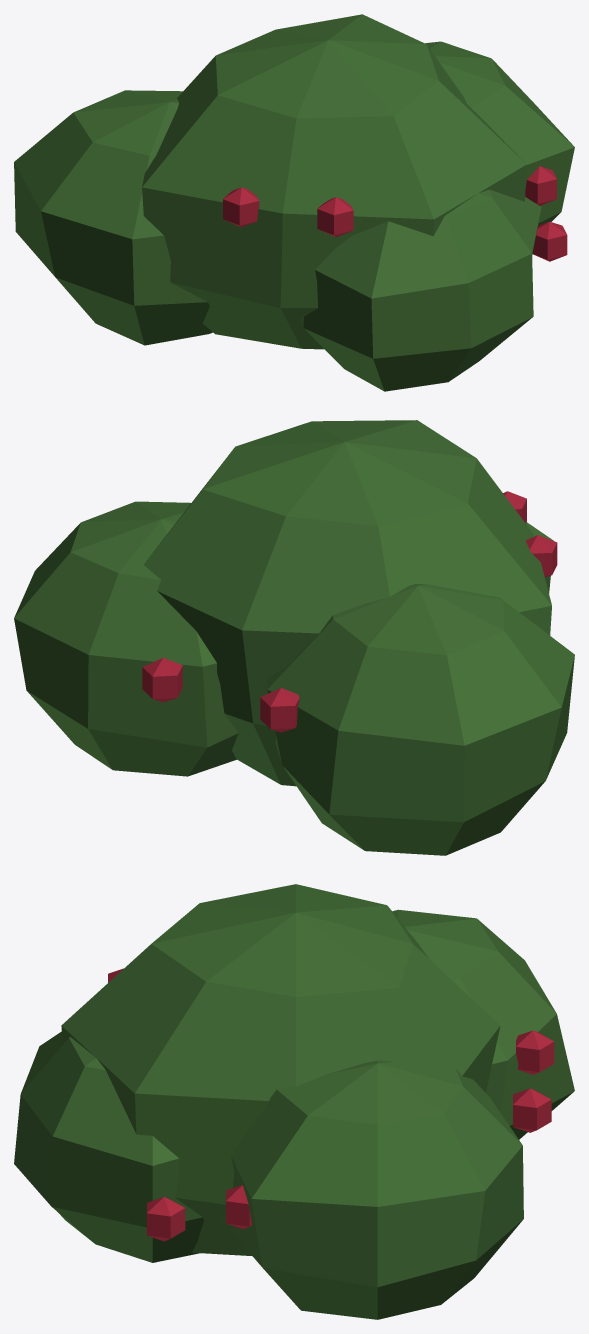
Rendered from berry_bush.glb.
3 views of the same model, one above another, from view 1: azimuth 30°, elevation 25°; view 2: azimuth 150°, elevation 25°; view 3: azimuth 270°, elevation 25° (orthographic). The views are drawn at different scales.
Visible parts, largest first — view 1: berry_bush; view 2: berry_bush; view 3: berry_bush.
Part boxes in pixels (box(x1,y1,x2,y2)): berry_bush: box(14, 14, 574, 391); berry_bush: box(14, 420, 574, 855); berry_bush: box(14, 884, 574, 1319).
Bounding box in the file's own units: 1.55 × 0.88 × 1.37.
